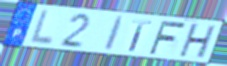2: (58, 12, 92, 49)
F: (147, 20, 188, 56)
H: (176, 23, 218, 60)
I: (102, 15, 127, 52)
L: (28, 8, 56, 47)
T: (128, 18, 153, 53)
